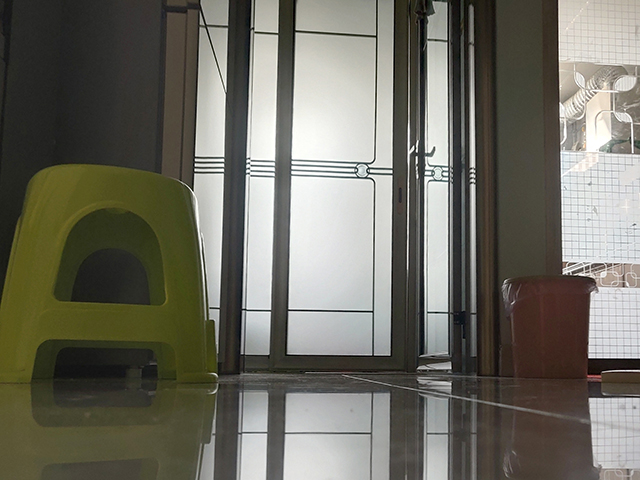book: (599, 368, 640, 386)
stool: (1, 162, 220, 385)
trashcan: (501, 274, 601, 381)
